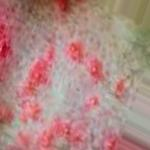Ants: (23, 40, 57, 98), (38, 118, 87, 149), (0, 17, 12, 80), (84, 54, 108, 82), (19, 92, 41, 122), (64, 38, 89, 63), (111, 76, 130, 101), (79, 93, 101, 112), (12, 133, 29, 149), (0, 102, 13, 122), (54, 0, 71, 12)
